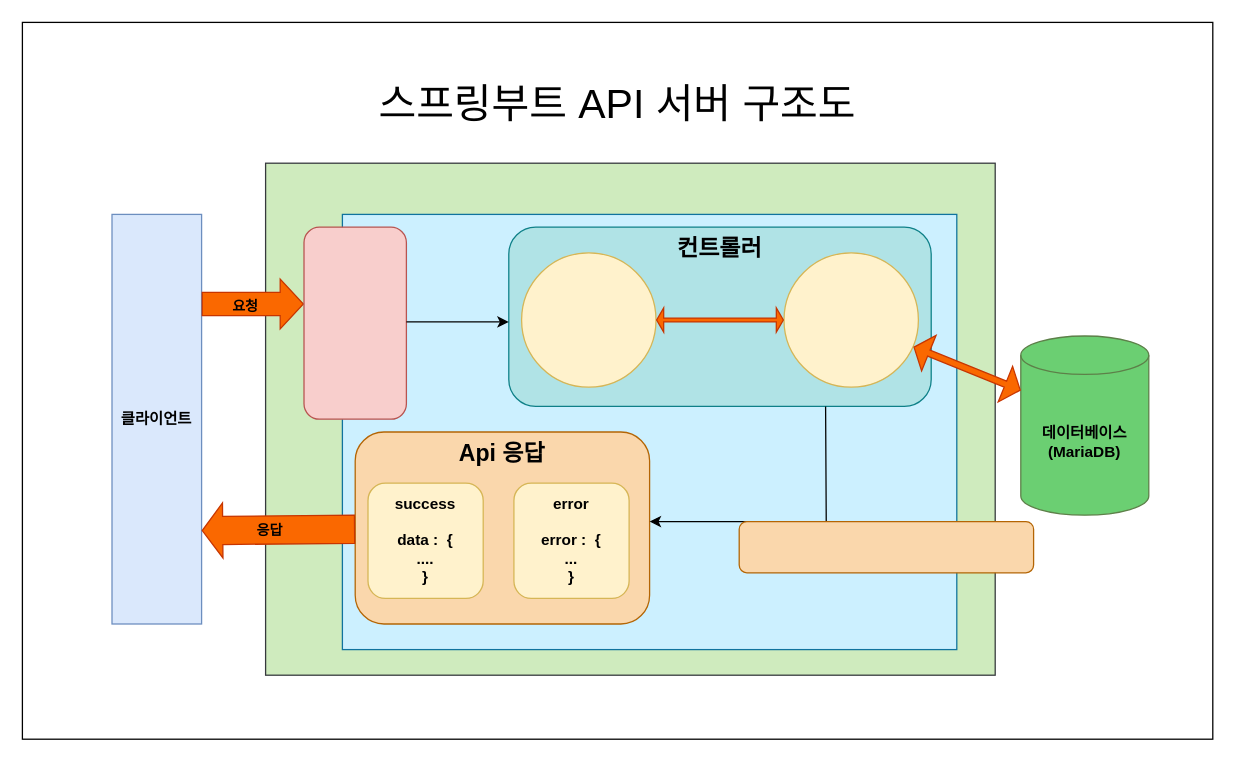
This 1235x762 diagram has some shape labels left out. The shapes that lost their labels are listed below. From the top down, each one's box as (x1, y1, x2, y2) in pixels, then its label:
(303, 226, 406, 419): 인터셉터
(520, 252, 656, 387): 서비스
(783, 252, 918, 387): 매퍼 (MyBatis)
(738, 520, 1034, 573): GlobalExceptionHandler
